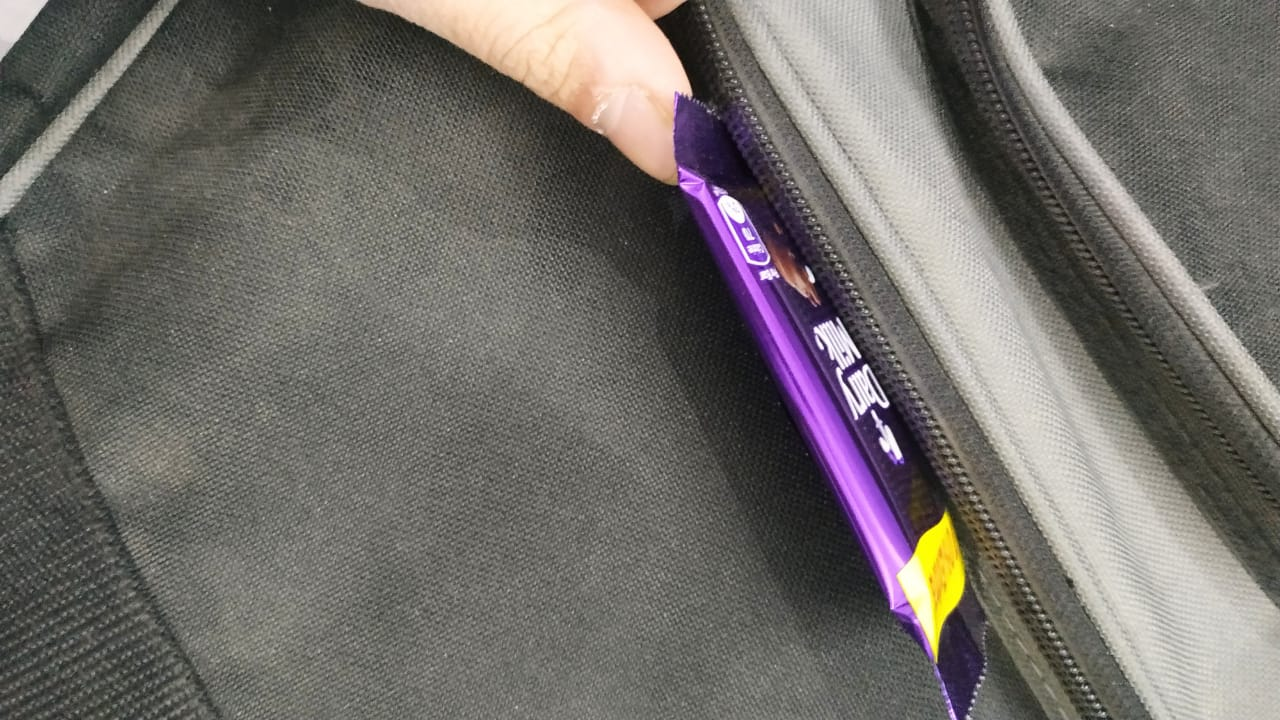dairy milk: (641, 84, 1048, 720)
